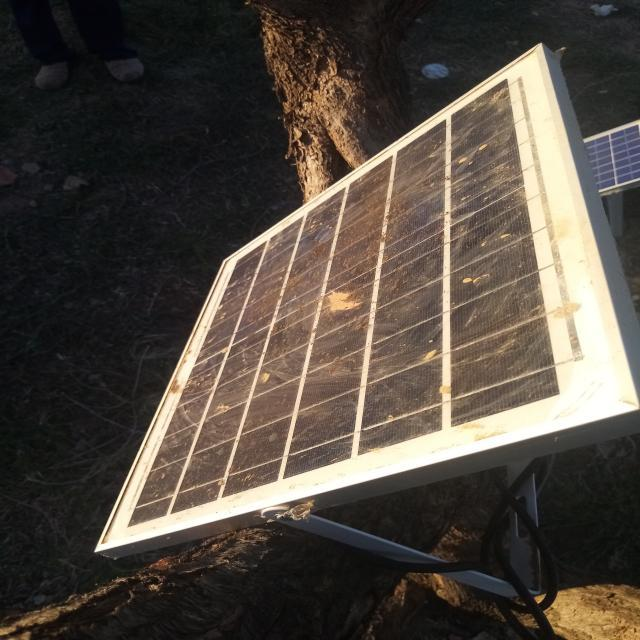faulty: (94, 45, 638, 551)
